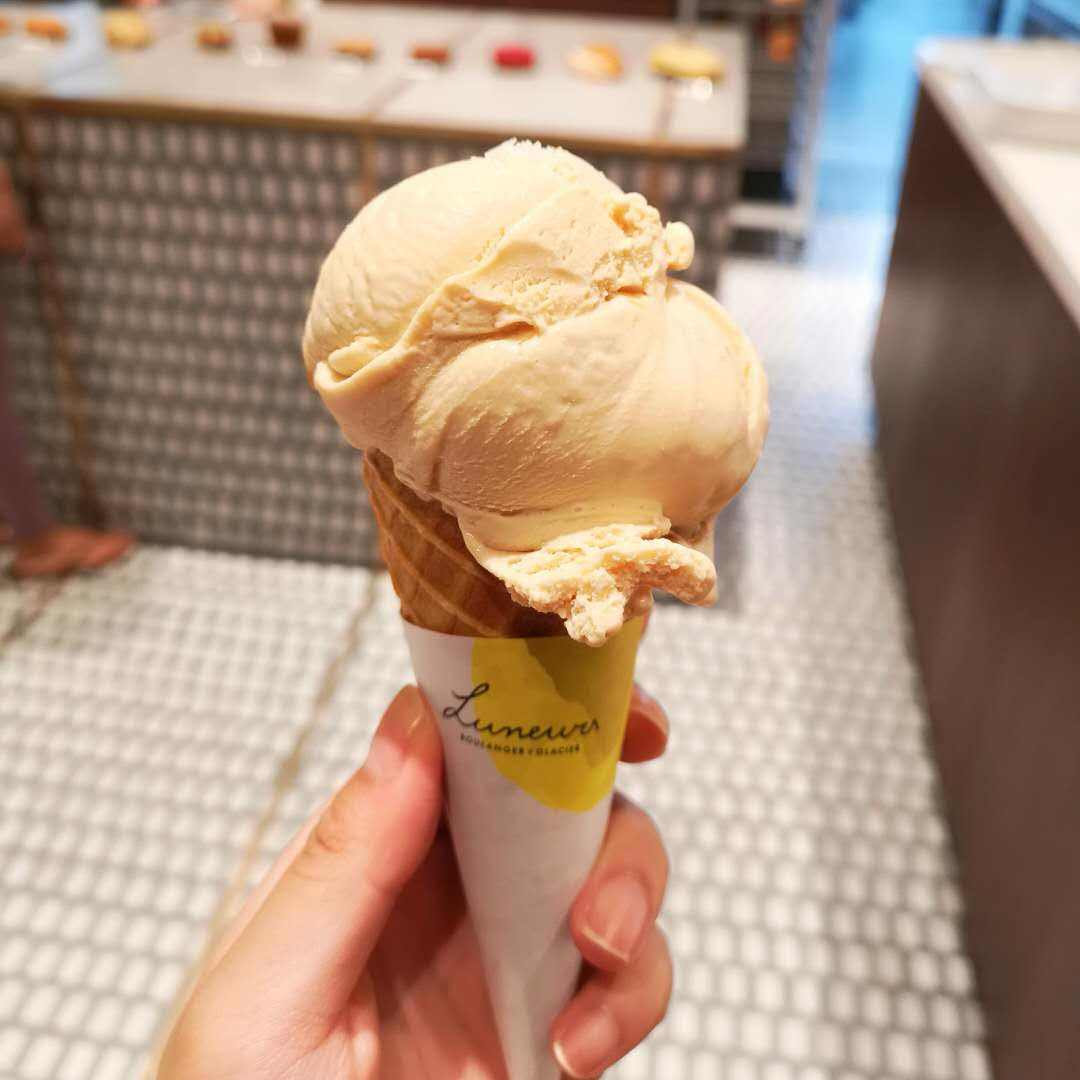no-phone: (143, 128, 784, 1061)
